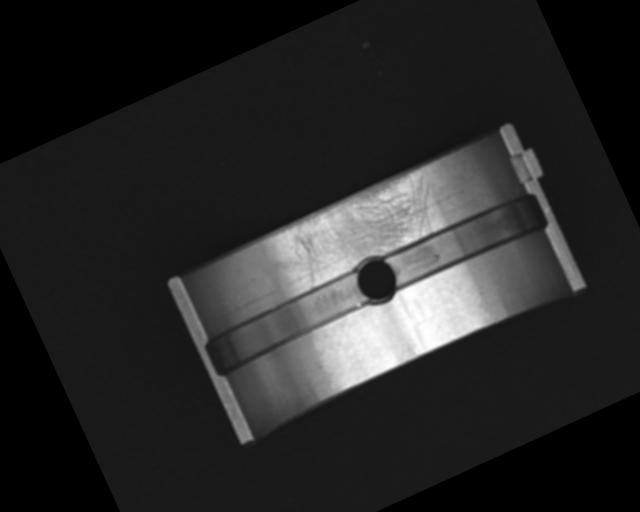gap: (201, 267, 373, 377), (383, 190, 550, 291)
hole: (350, 251, 403, 311)
scratch: (271, 165, 448, 295)
